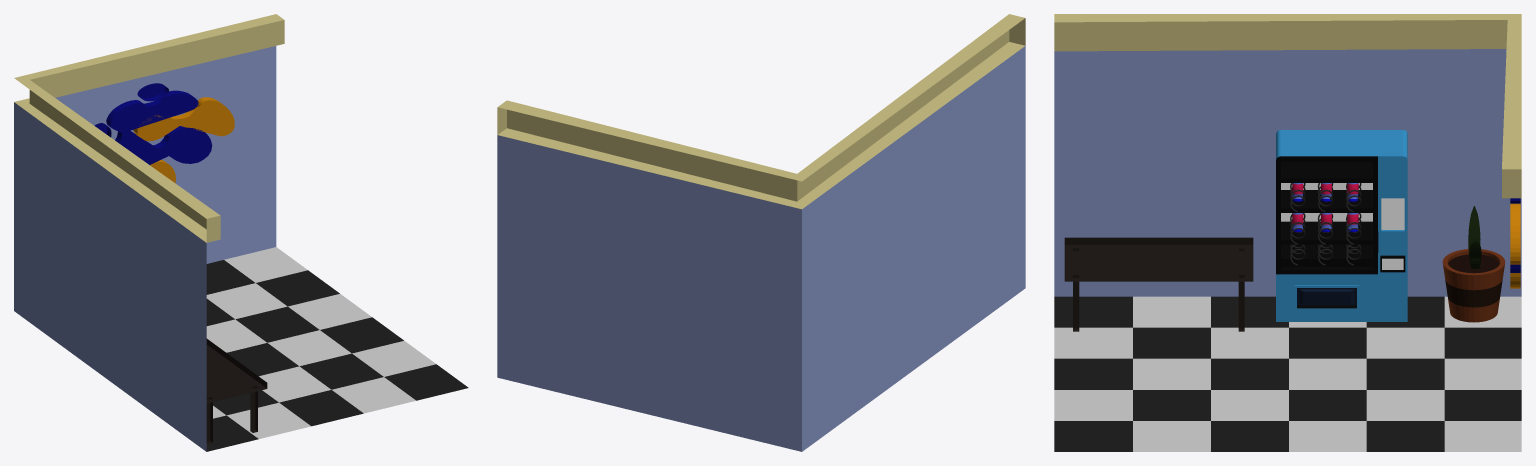
File: Allanim0002.obj
The picture shows the model from 3 angles, left to right: view 1: azimuth 30°, elevation 25°; view 2: azimuth 150°, elevation 25°; view 3: azimuth 270°, elevation 25°; orthographic projection. The views are drawn at different scales.
Visible parts, largest first — view 1: ruangan_Cube.003, meja_Cube.004, logo.001_Circle.019, logo_Circle.006, logo.005_Circle.023; view 2: ruangan_Cube.003; view 3: ruangan_Cube.003, vending_machine_Cube.001, meja_Cube.004, pot_bunga_Cylinder, per_second\_Spiral.010, Plane.007, logo_Circle.006.
Part boxes in pixels (bbox=[...]): ruangan_Cube.003: bbox=[14, 14, 468, 451]; meja_Cube.004: bbox=[206, 338, 267, 443]; logo.001_Circle.019: bbox=[115, 126, 212, 164]; logo_Circle.006: bbox=[133, 97, 234, 141]; logo.005_Circle.023: bbox=[106, 90, 198, 133]; ruangan_Cube.003: bbox=[497, 14, 1025, 451]; ruangan_Cube.003: bbox=[1054, 14, 1521, 451]; vending_machine_Cube.001: bbox=[1276, 130, 1407, 321]; meja_Cube.004: bbox=[1064, 237, 1253, 331]; pot_bunga_Cylinder: bbox=[1442, 249, 1505, 322]; per_second\_Spiral.010: bbox=[1290, 183, 1361, 265]; Plane.007: bbox=[1468, 206, 1481, 268]; logo_Circle.006: bbox=[1510, 203, 1520, 264].
Bounding box in the file's own units: 11.73 × 9.95 × 14.9.
